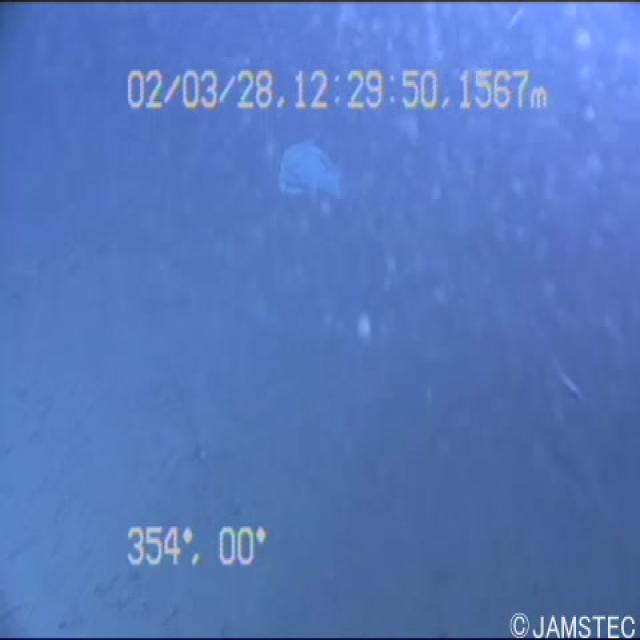plastic: (254, 130, 394, 229)
